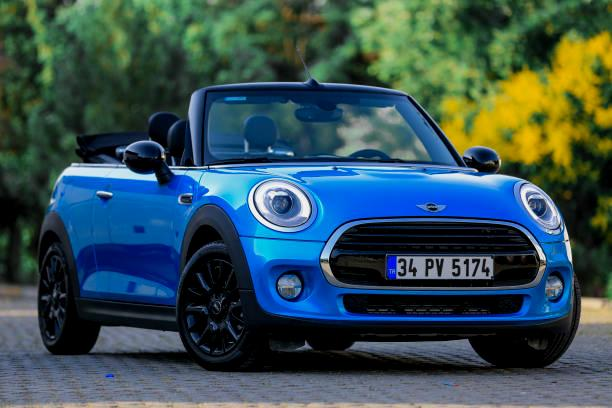mini: (414, 199, 467, 223)
